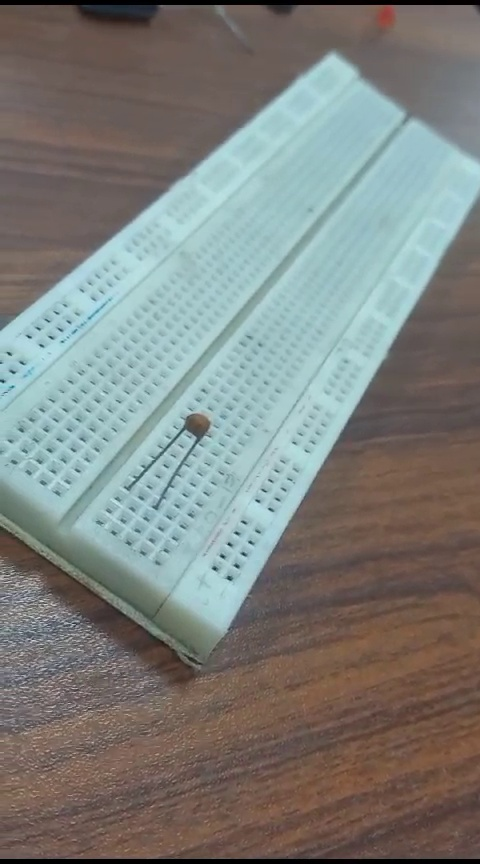ceramic capacitor: (130, 408, 218, 500)
